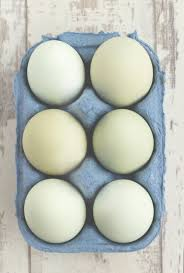eggs: (19, 105, 87, 170), (94, 111, 159, 175), (22, 178, 87, 237), (93, 186, 156, 246), (93, 41, 150, 104), (24, 40, 83, 100)
